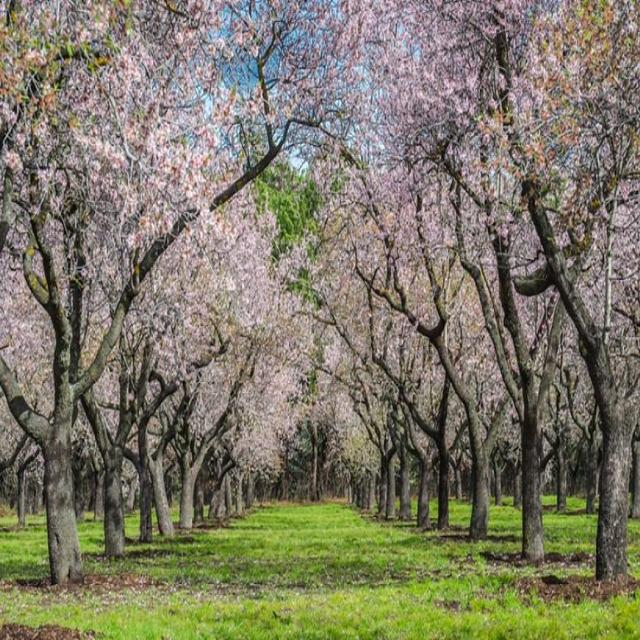row: (29, 498, 605, 640)
